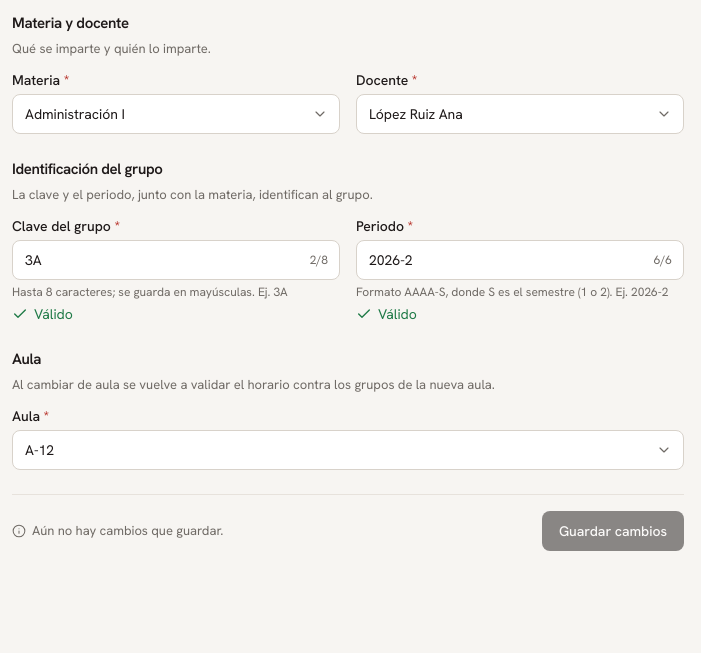
Test: GrupoForm (edición) › un error sin campo (p. ej. historial) sale una vez en un aviso general
Expected: the text "Aún no hay cambios que guardar." is shown, [32,522,223,540]
In the field labelled "Clave del grupo *": (176, 260) [12,240,340,280], type "3b"
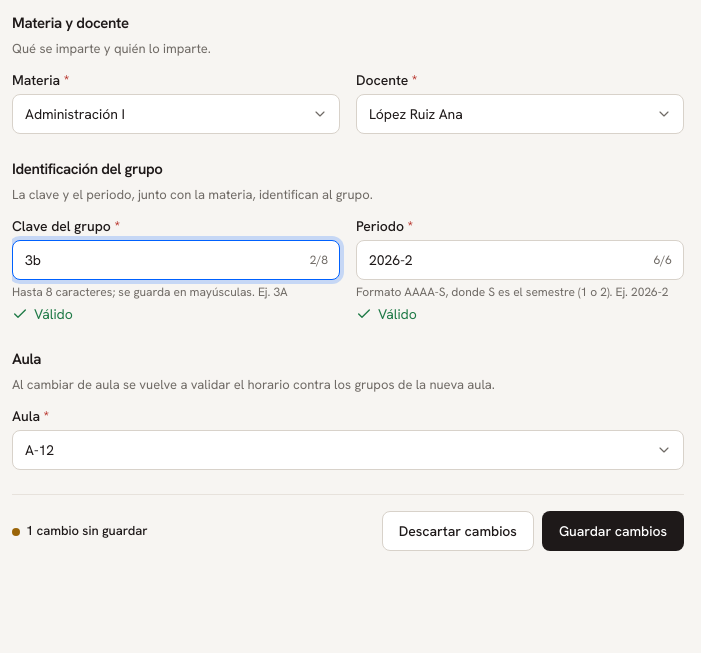
Click the button "Guardar cambios": (613, 531) [542,511,684,551]
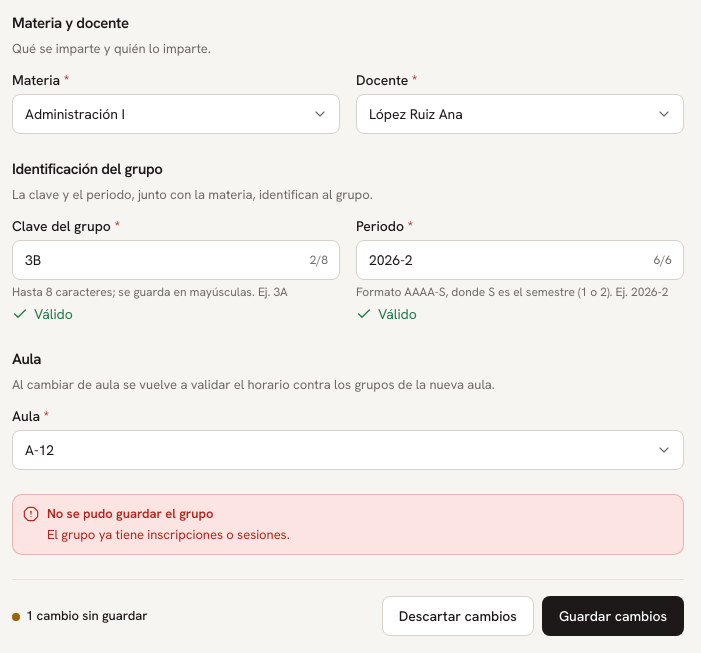
Now the text "No se pudo guardar el grupo" is shown, box [47,505,213,522]
Now the text "El grupo ya tiene inscripciones o sesiones." is shown once, box [47,526,290,543]
